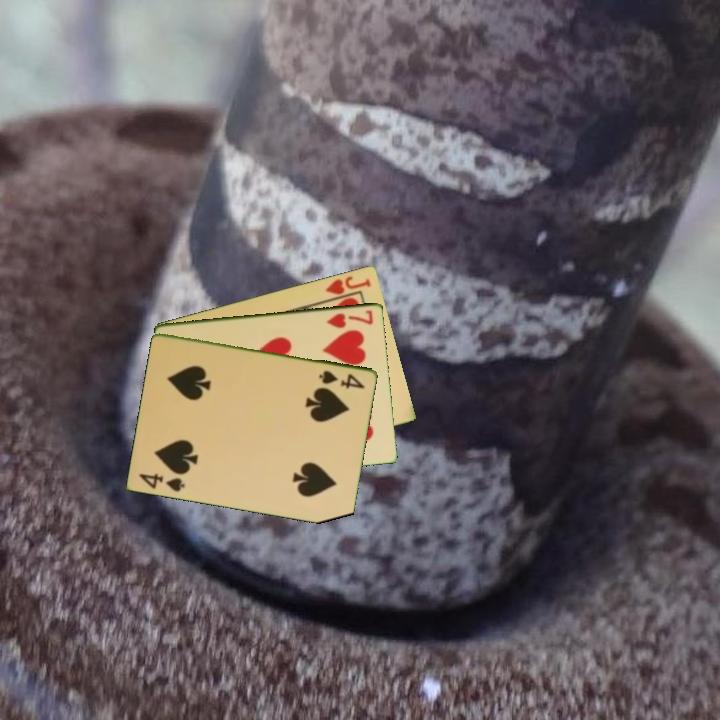4s: (316, 367, 368, 391), (136, 470, 188, 494)
7h: (323, 306, 376, 331)
Jh: (322, 272, 374, 297)
